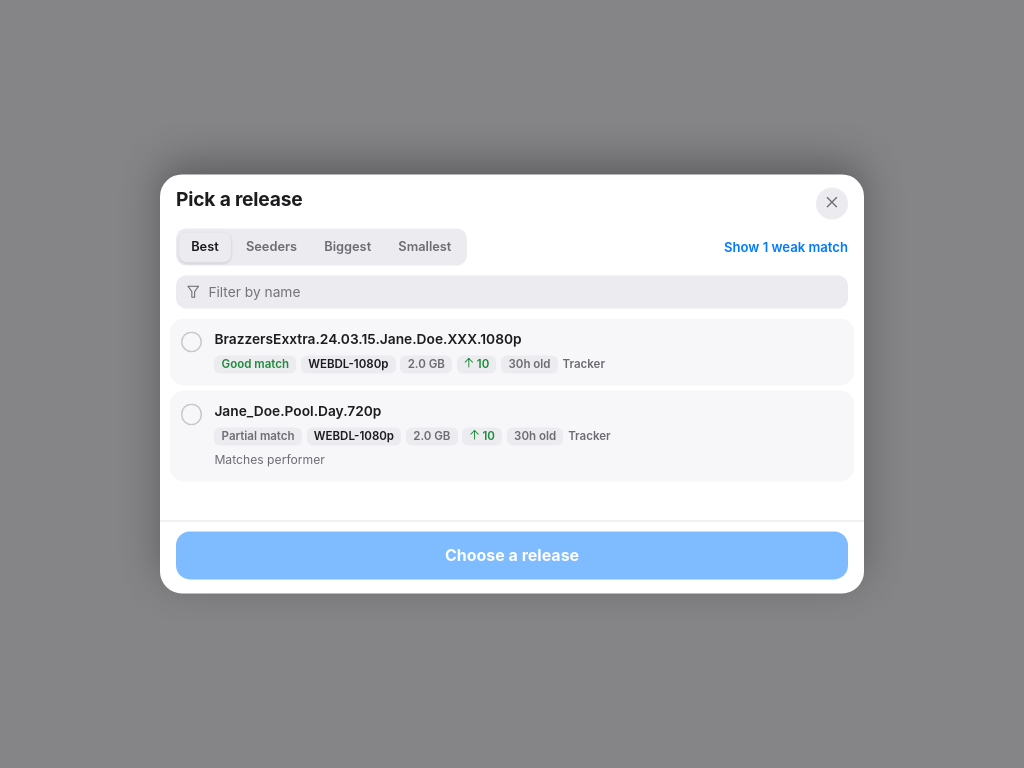
ReleasePickerComponent › hides weak matches until asked and filters by name with a count
Click the button with test id "toggle-weak": [786, 247] box [724,239,848,255]
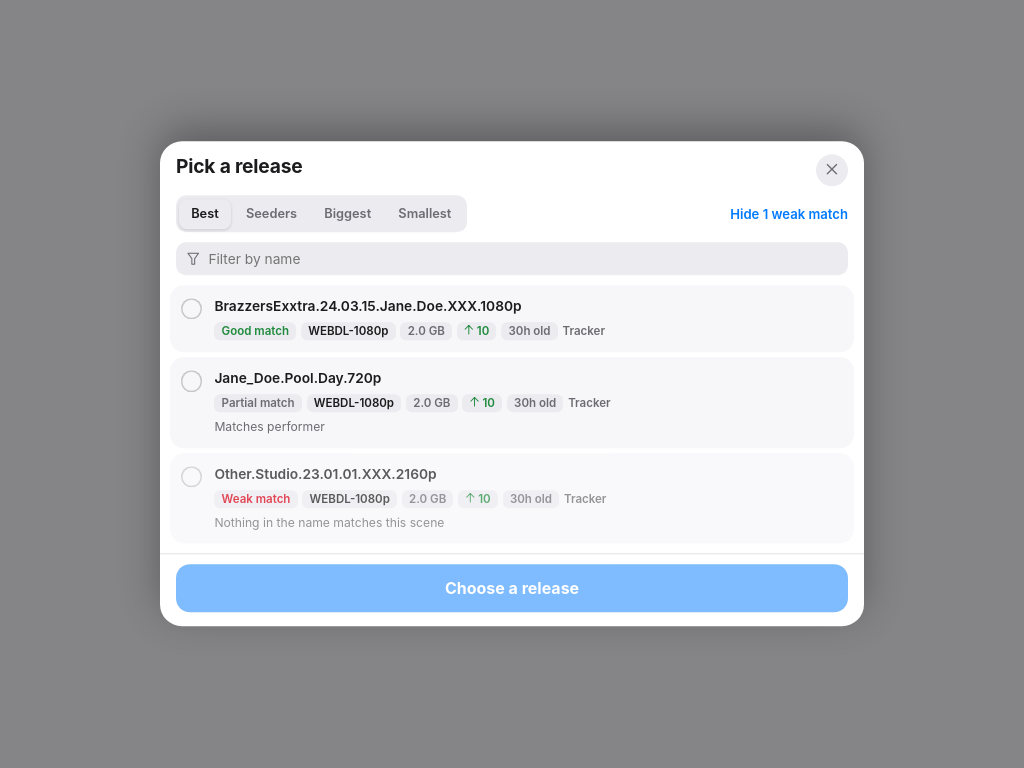
expect the text "Other.Studio.23.01.01.XXX.2160p" is shown: met, box [214,466,437,482]
expect the text "Nothing in the name matches this scene" is shown: met, box [214,516,444,530]
In the search field with placeholder "Filter by name": [522, 259] box [206,250,837,268], type "jane doe"
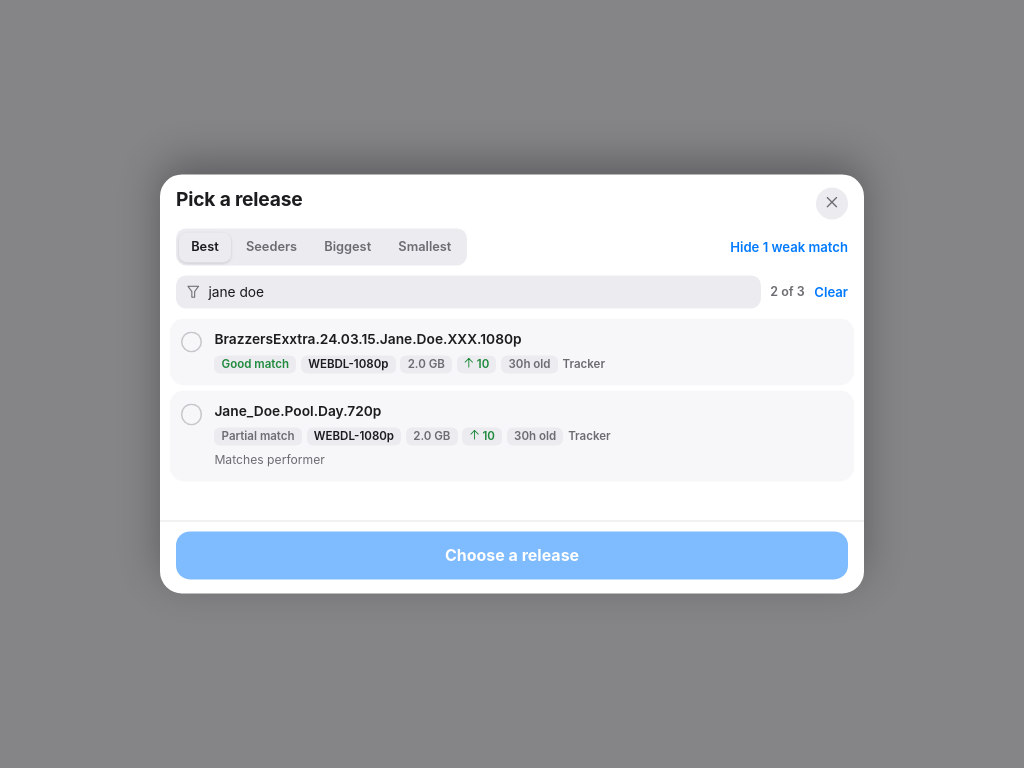
expect the message with class "filter-count" reads "2 of 3": met, box [770,284,805,300]
Replace the text in the search field with "nothing here": [478, 292] box [206,283,750,301]
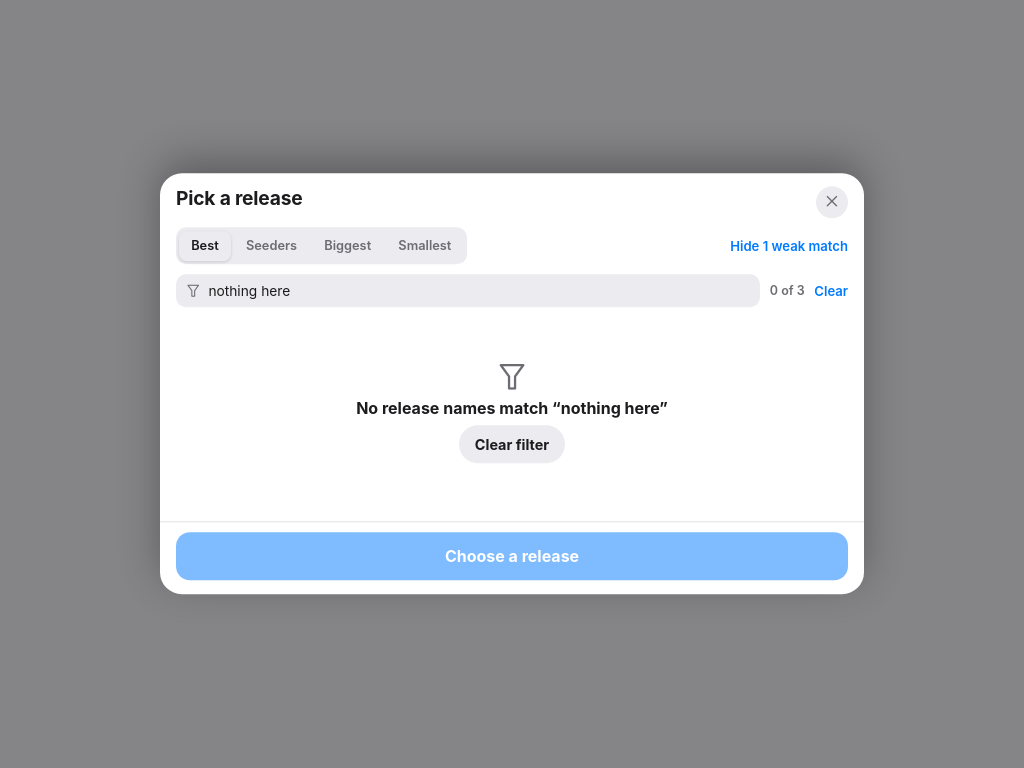
expect the text "No release names match “nothing here”" is shown: met, box [356,398,668,418]
